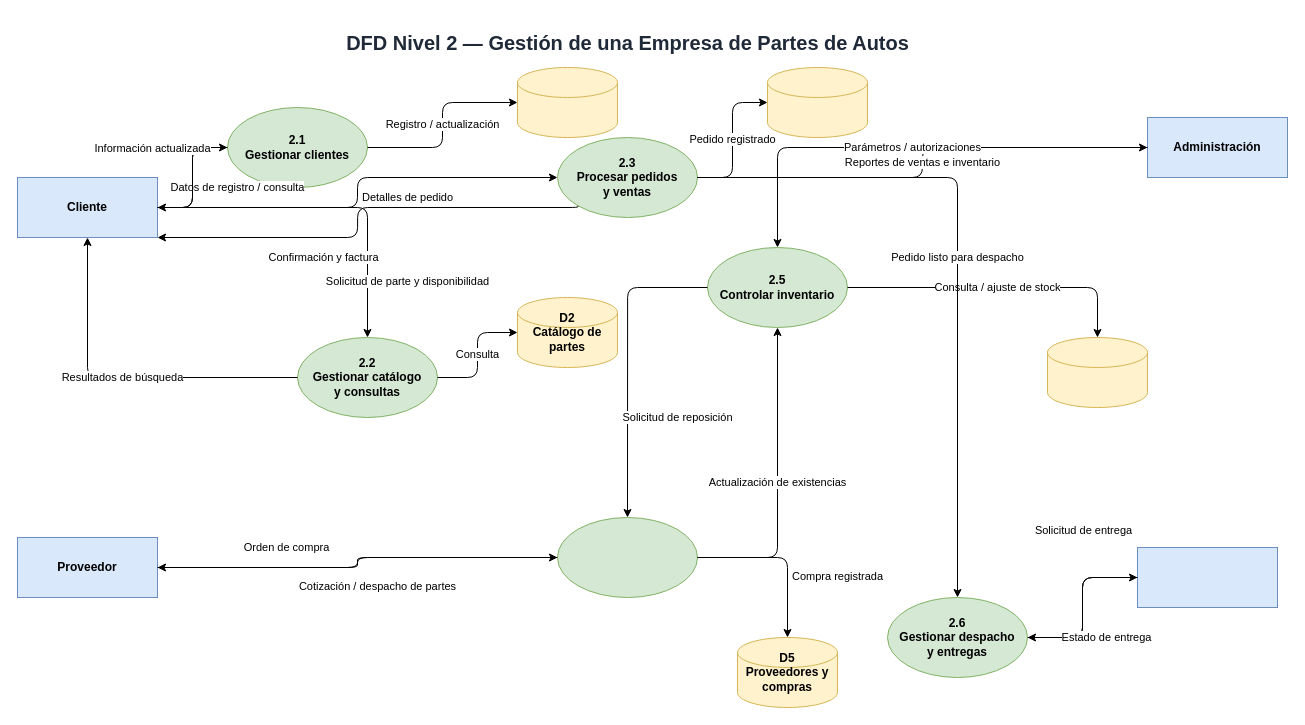
The diagram is 1305 pixels wide and 725 high, and some of its shapes have lost their labels. Here are the shapes that lost their labels. From the top down, the centre of each, then its label:
At point (567, 102): "D1 Clientes".
At point (817, 102): "D3 Pedidos y ventas".
At point (1097, 372): "D4 Inventario".
At point (627, 557): "2.4 Gestionar compras a proveedores".
At point (1207, 577): "Transportista".
